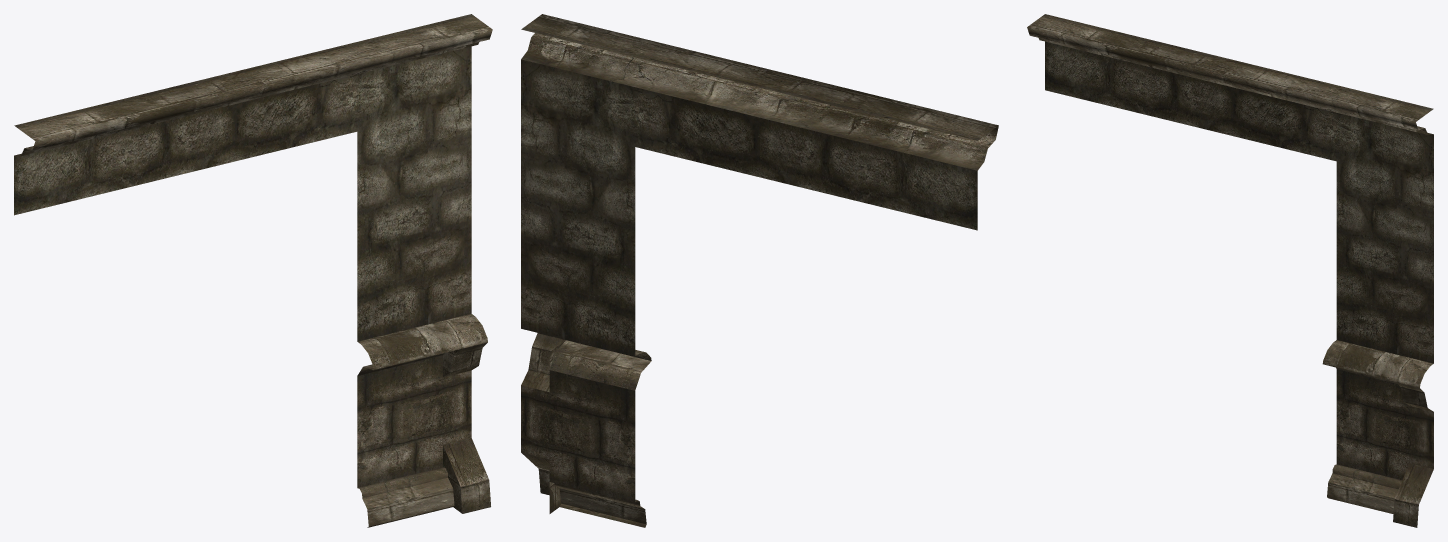
File: door_way_worn_prison_right_amfp.dae
3 views of the same model, side by side, from view 1: azimuth 30°, elevation 25°; view 2: azimuth 150°, elevation 25°; view 3: azimuth 330°, elevation 25° (orthographic). The views are drawn at different scales.
Parts seen in each view (by area): view 1: castlebase_default_worn_mesh; view 2: castlebase_default_worn_mesh; view 3: castlebase_default_worn_mesh.
Boxes of the visible parts, <box> form: castlebase_default_worn_mesh: <box>14,14,492,527</box>; castlebase_default_worn_mesh: <box>521,14,998,527</box>; castlebase_default_worn_mesh: <box>1027,14,1433,527</box>.
Bounding box in the file's own units: 4 × 4 × 0.3219.
